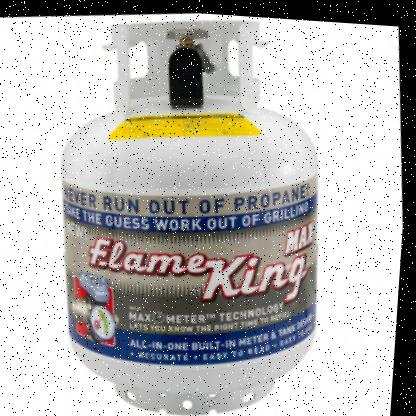gas-tank: (32, 2, 355, 415)
